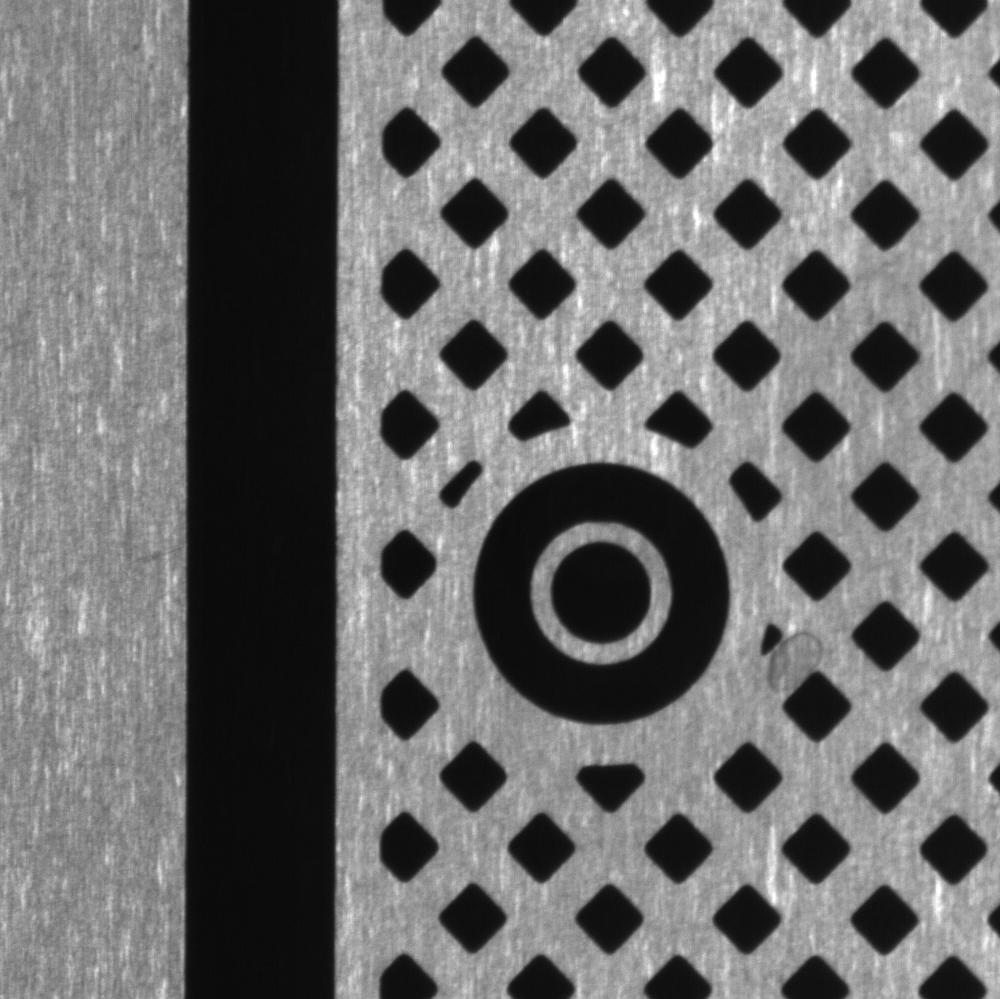Discolor: (755, 616, 846, 702)
Scar: (99, 528, 188, 575)
